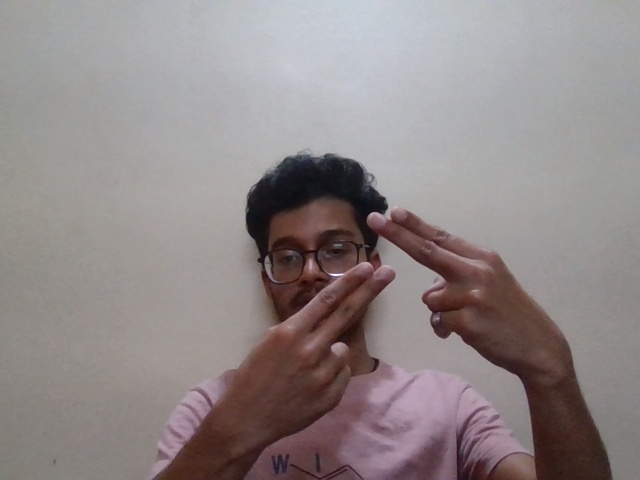my-name-is: (269, 205, 547, 402)
